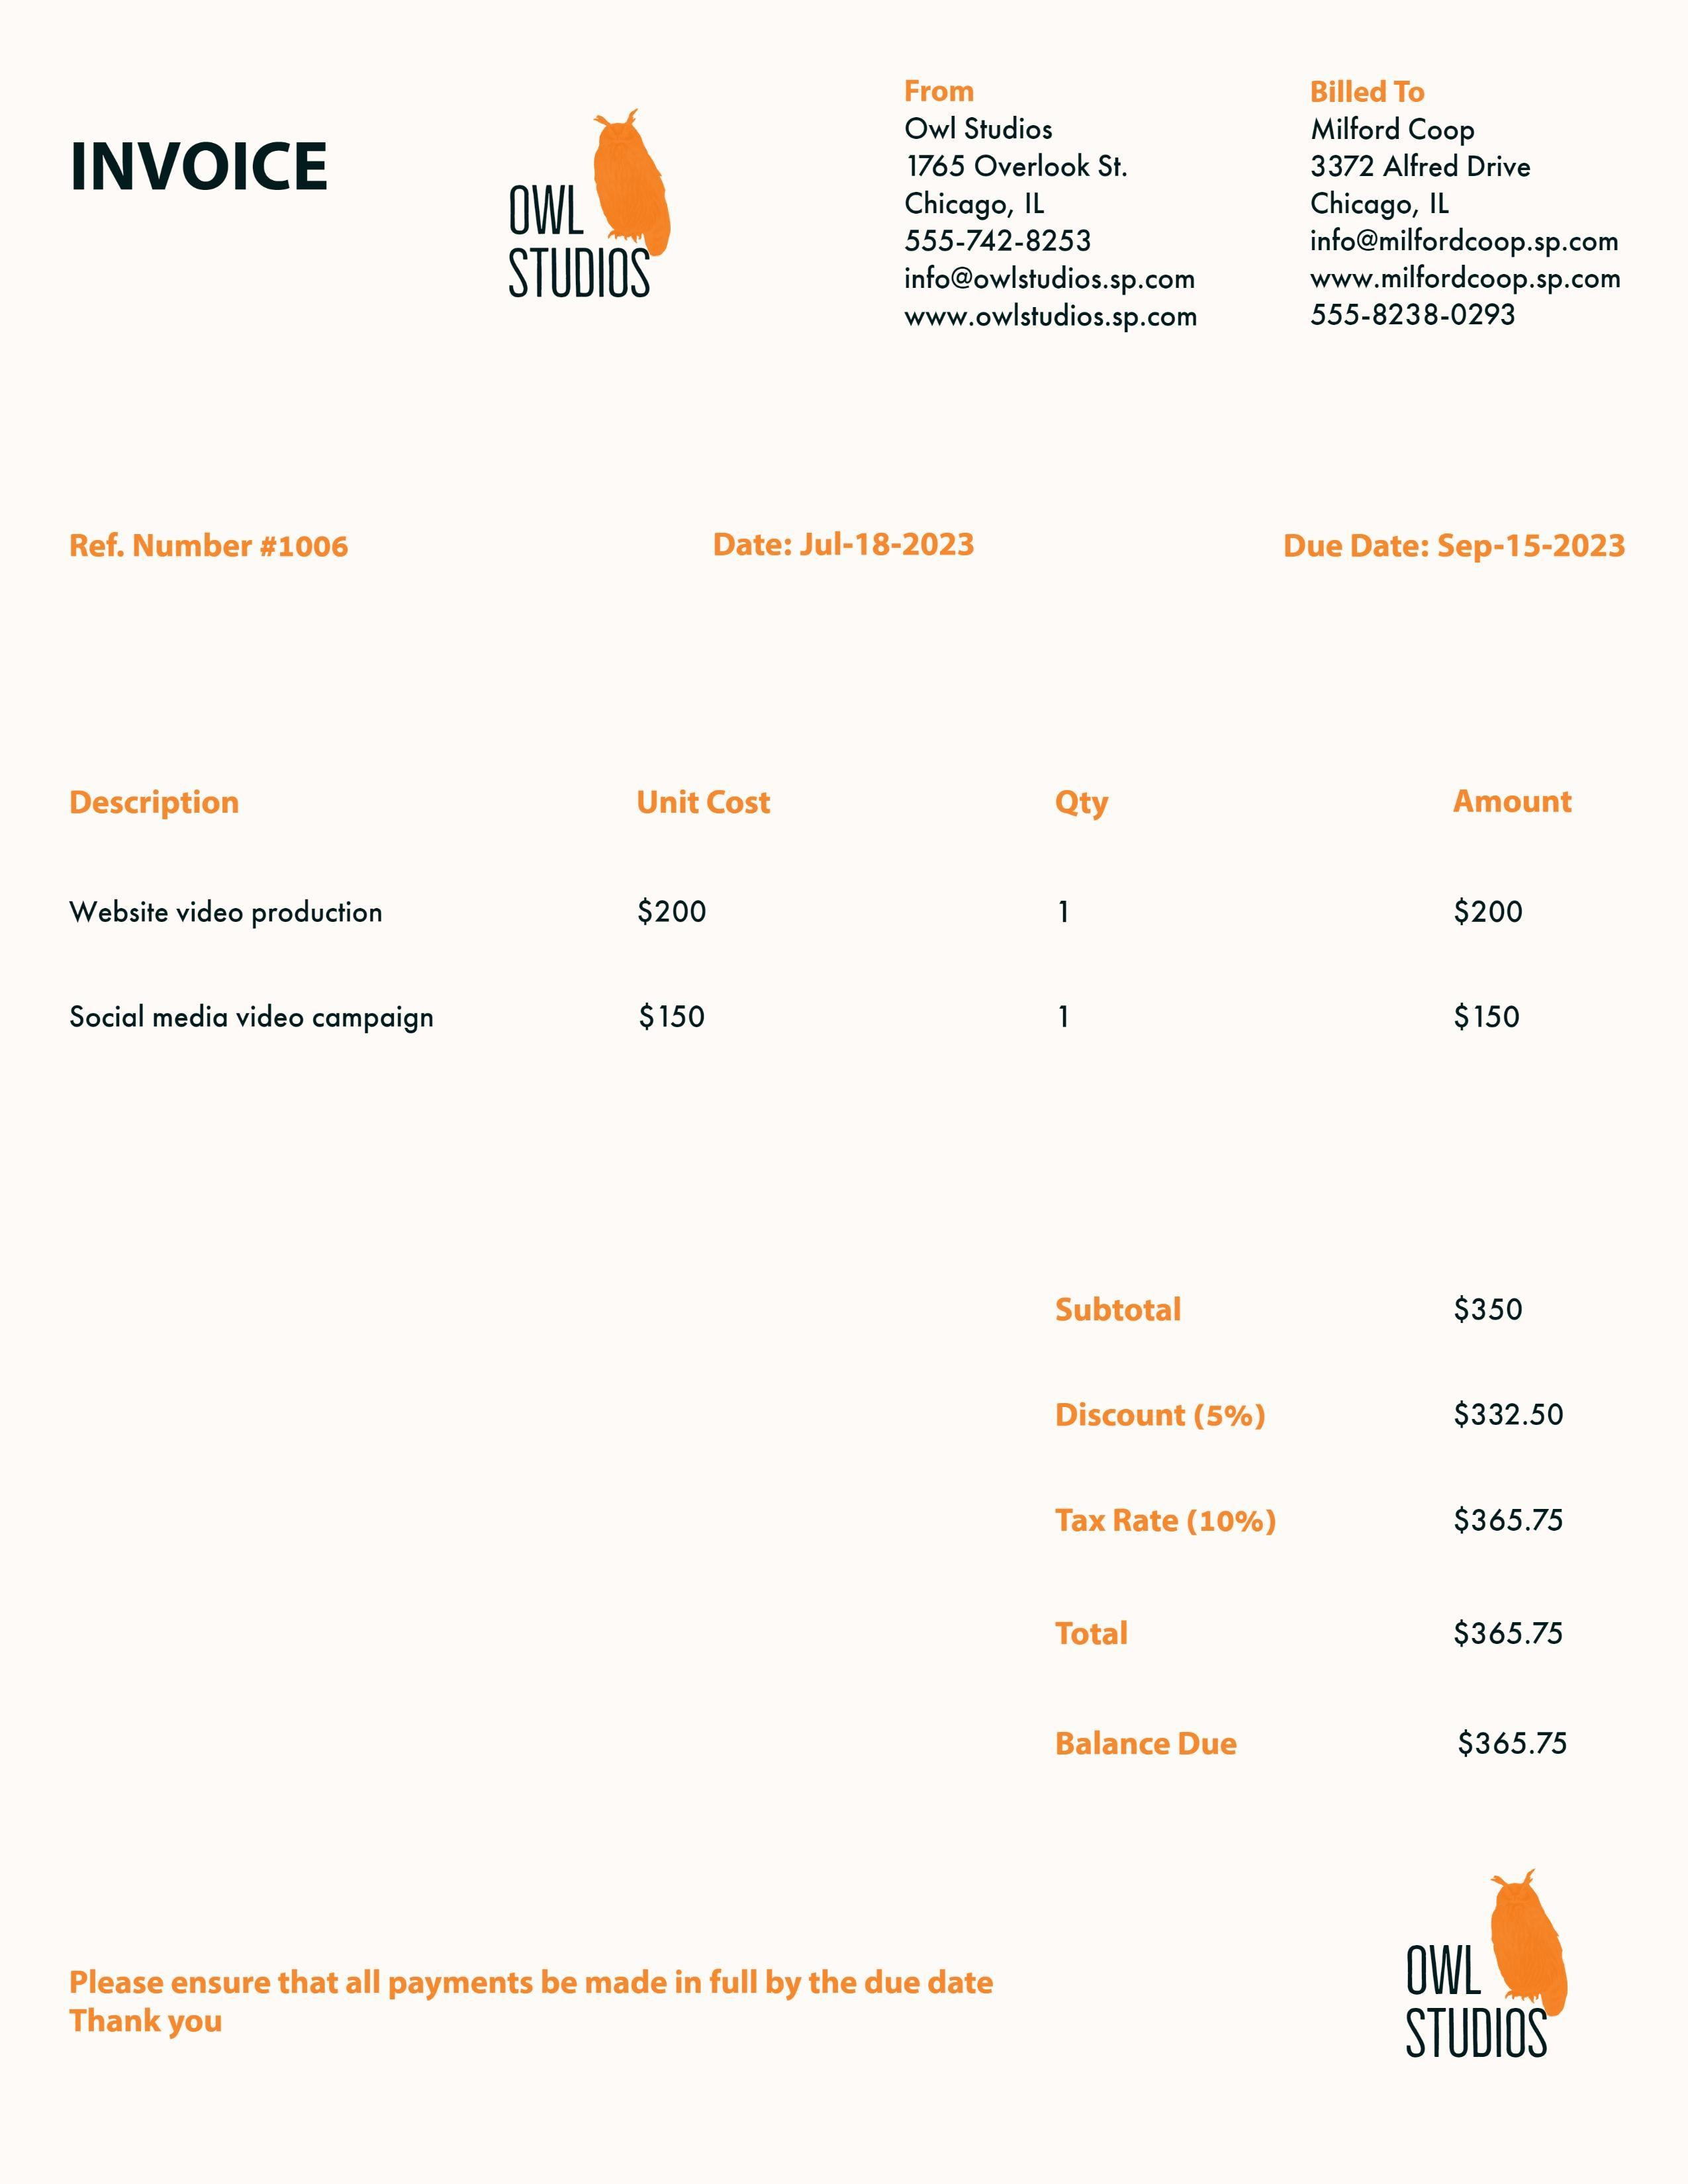ROI: (50, 778, 1636, 1142), (1043, 1287, 1590, 1778), (60, 523, 1650, 588), (1301, 69, 1630, 331), (900, 73, 1204, 336), (53, 1949, 1021, 2006)
